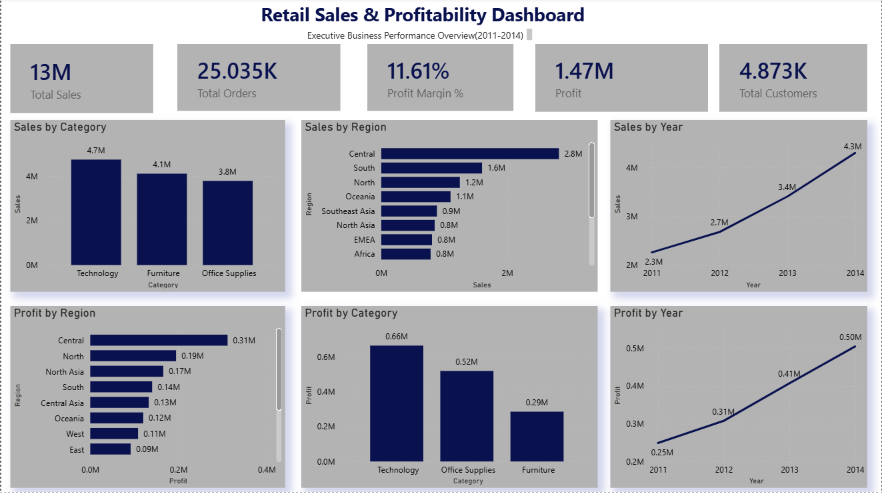

What the dashboard file says about the page in this screenshot:
{"tool":"powerbi","page":{"name":"Page 1","canvas":[1280,720],"ordinal":0},"visuals":[{"type":"cardVisual","fields":{"Data":["Sum(superstoreprroject.Sales)"]},"box":[13.1,67,208.1,100.4],"z":0},{"type":"cardVisual","fields":{"Data":["Sum(superstoreprroject.Profit)"]},"box":[776.8,66.6,251.4,98.4],"z":1000},{"type":"cardVisual","fields":{"Data":["Count(superstoreprroject.Order_ID)"]},"box":[256.2,67,237.3,97.5],"z":2000},{"type":"cardVisual","fields":{"Data":["Count(superstoreprroject.Customer_ID)"]},"box":[1044.8,66.6,215,98.4],"z":3000},{"type":"cardVisual","fields":{"Data":["superstoreprroject.Profit Margin"]},"box":[532.7,67,212.5,97.5],"z":4000},{"type":"clusteredColumnChart","fields":{"Category":["superstoreprroject.Category"],"Y":["Sum(superstoreprroject.Sales)"]},"box":[13.6,177.2,399.8,249.8],"z":5000},{"type":"clusteredColumnChart","fields":{"Category":["superstoreprroject.Category"],"Y":["Sum(superstoreprroject.Profit)"]},"box":[436.1,448.2,431.5,265],"z":6000},{"type":"clusteredBarChart","fields":{"Category":["superstoreprroject.Region"],"Y":["Sum(superstoreprroject.Sales)"]},"box":[436.1,177.2,431.5,249.8],"z":7000},{"type":"clusteredBarChart","fields":{"Category":["superstoreprroject.Region"],"Y":["Sum(superstoreprroject.Profit)"]},"box":[13.6,448.2,399.8,265],"z":8000},{"type":"lineChart","fields":{"Category":["superstoreprroject.Order_Date.Variation.Date Hierarchy.Year","superstoreprroject.Order_Date.Variation.Date Hierarchy.Month"],"Y":["Sum(superstoreprroject.Sales)"]},"box":[885.8,177.2,374,249.8],"z":11000},{"type":"lineChart","fields":{"Category":["superstoreprroject.Order_Date.Variation.Date Hierarchy.Year","superstoreprroject.Order_Date.Variation.Date Hierarchy.Month"],"Y":["Sum(superstoreprroject.Profit)"]},"box":[885.8,448.2,374,265],"z":12000},{"type":"textbox","box":[365.9,0,503.6,55.1],"z":13000},{"type":"textbox","box":[436.1,39.4,340.7,27.3],"z":14000}]}

Visuals, with their boxes in screenshot pixels (x1, y1, x2, y2), scaled from the page's 1280x720 canvas onto the 882x493 screenshot:
cardVisual - Sum(superstoreprroject.Sales): 9, 46, 152, 115
cardVisual - Sum(superstoreprroject.Profit): 535, 46, 708, 113
cardVisual - Count(superstoreprroject.Order_ID): 177, 46, 340, 113
cardVisual - Count(superstoreprroject.Customer_ID): 720, 46, 868, 113
cardVisual - superstoreprroject.Profit Margin: 367, 46, 513, 113
clusteredColumnChart - superstoreprroject.Category x Sum(superstoreprroject.Sales): 9, 121, 285, 292
clusteredColumnChart - superstoreprroject.Category x Sum(superstoreprroject.Profit): 301, 307, 598, 488
clusteredBarChart - superstoreprroject.Region x Sum(superstoreprroject.Sales): 301, 121, 598, 292
clusteredBarChart - superstoreprroject.Region x Sum(superstoreprroject.Profit): 9, 307, 285, 488
lineChart - superstoreprroject.Order_Date.Variation.Date Hierarchy.Year x superstoreprroject.Order_Date.Variation.Date Hierarchy.Month: 610, 121, 868, 292
lineChart - superstoreprroject.Order_Date.Variation.Date Hierarchy.Year x superstoreprroject.Order_Date.Variation.Date Hierarchy.Month: 610, 307, 868, 488
textbox: 252, 0, 599, 38
textbox: 301, 27, 535, 46
